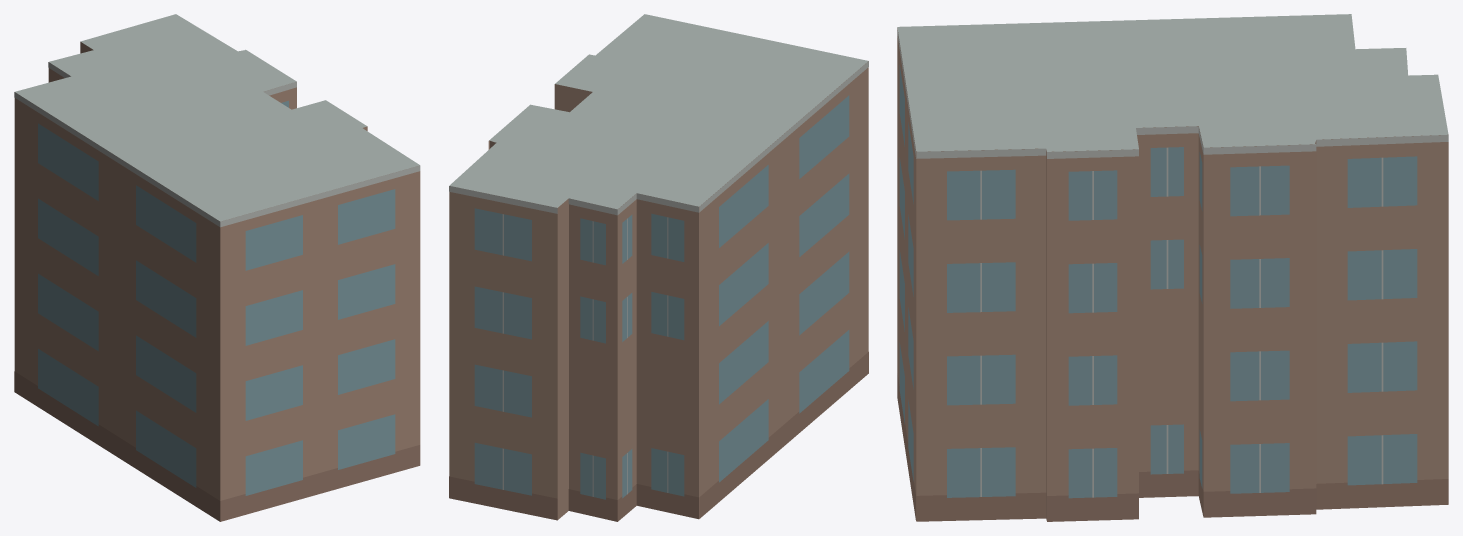
Rendered from survey-upis-33035594.glb.
3 views of the same model, side by side, from view 1: azimuth 30°, elevation 25°; view 2: azimuth 150°, elevation 25°; view 3: azimuth 270°, elevation 25° (orthographic). The views are drawn at different scales.
Parts seen in each view (by area): view 1: survey-upis-33035594.tmp; view 2: survey-upis-33035594.tmp; view 3: survey-upis-33035594.tmp.
Boxes of the visible parts, x1,y1,x2,y2 form: survey-upis-33035594.tmp: (14,14,420,521); survey-upis-33035594.tmp: (449,14,868,521); survey-upis-33035594.tmp: (897,14,1448,521).
Size of the model in its own units: 10.16 by 12.7 by 17.16.
